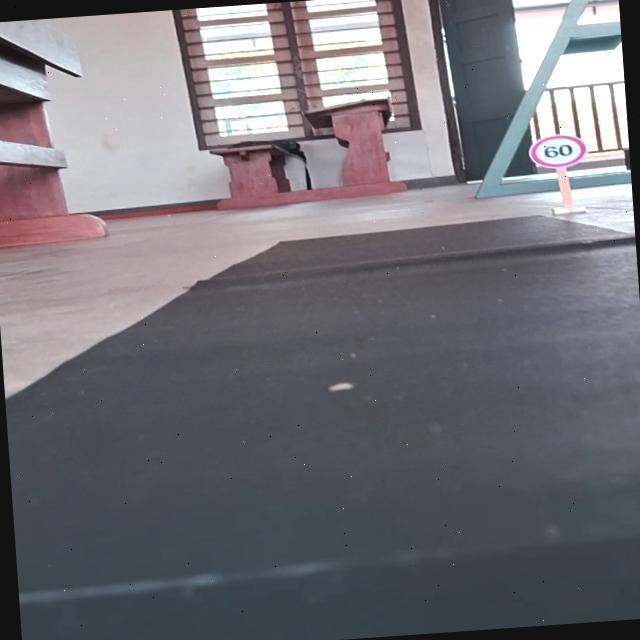Speed60: (526, 131, 590, 172)
